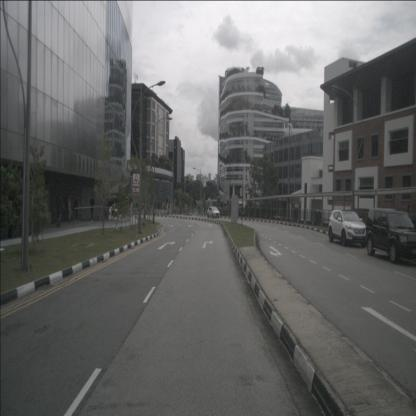human-pedestrian-adult: (55, 193, 65, 228), (74, 195, 80, 222), (67, 194, 72, 222), (90, 195, 95, 222), (111, 201, 115, 221), (107, 201, 110, 221)
vehicle-car: (366, 208, 416, 264), (328, 209, 366, 246), (207, 206, 220, 218)
